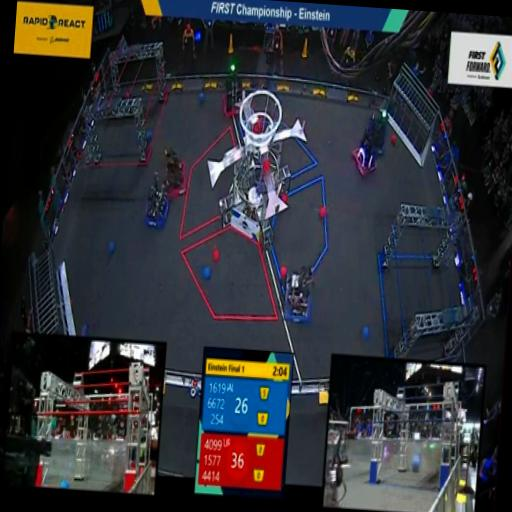robot: (276, 258, 319, 333), (153, 140, 192, 206), (136, 181, 173, 240), (216, 60, 252, 120), (348, 126, 382, 185), (362, 102, 392, 161)
